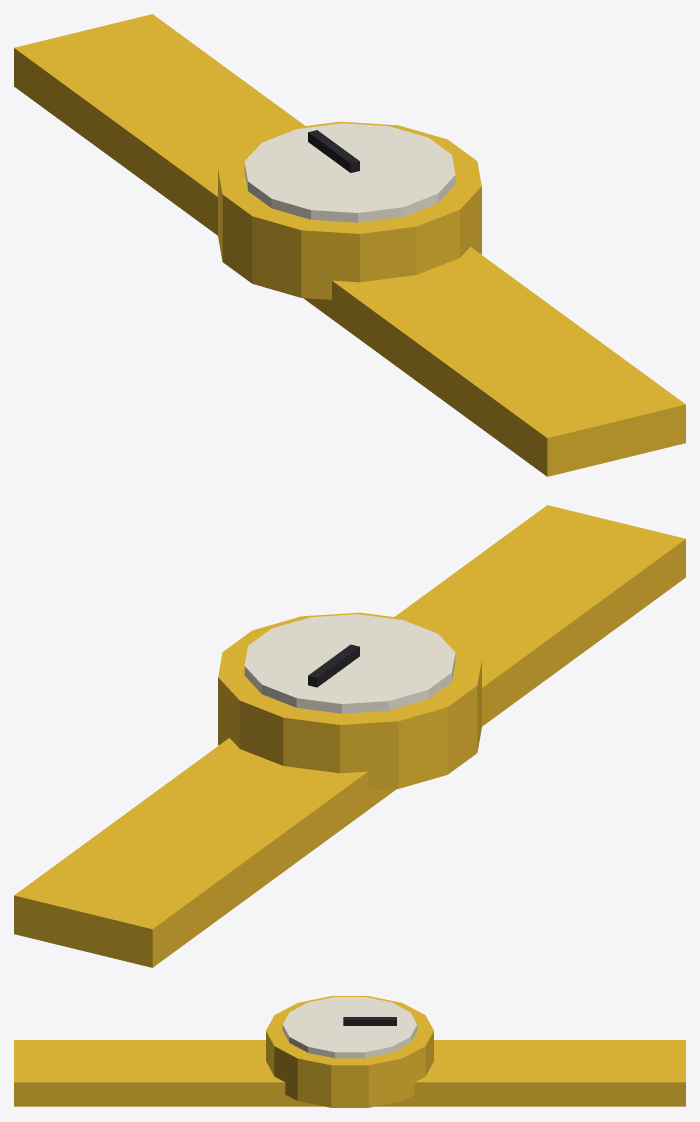
The model's file is karaoke_fake_watch.glb.
3 views of the same model, one above another, from view 1: azimuth 30°, elevation 25°; view 2: azimuth 150°, elevation 25°; view 3: azimuth 270°, elevation 25° (orthographic). The views are drawn at different scales.
Visible parts, largest first — view 1: strap_fake_gold, case_fake_gold, face_fake_face, hand_fake_hand; view 2: strap_fake_gold, case_fake_gold, face_fake_face, hand_fake_hand; view 3: strap_fake_gold, case_fake_gold, face_fake_face, hand_fake_hand.
Part boxes in pixels (<box>): strap_fake_gold: <box>14,14,685,476</box>; case_fake_gold: <box>218,121,481,299</box>; face_fake_face: <box>244,123,455,222</box>; hand_fake_hand: <box>308,130,359,172</box>; strap_fake_gold: <box>14,505,685,967</box>; case_fake_gold: <box>218,612,481,790</box>; face_fake_face: <box>244,614,455,713</box>; hand_fake_hand: <box>308,644,359,687</box>; strap_fake_gold: <box>14,1040,685,1106</box>; case_fake_gold: <box>266,996,433,1107</box>; face_fake_face: <box>282,997,417,1058</box>; hand_fake_hand: <box>343,1017,396,1025</box>.
Bounding box in the file's own units: 0.0487 × 0.022 × 0.2.
